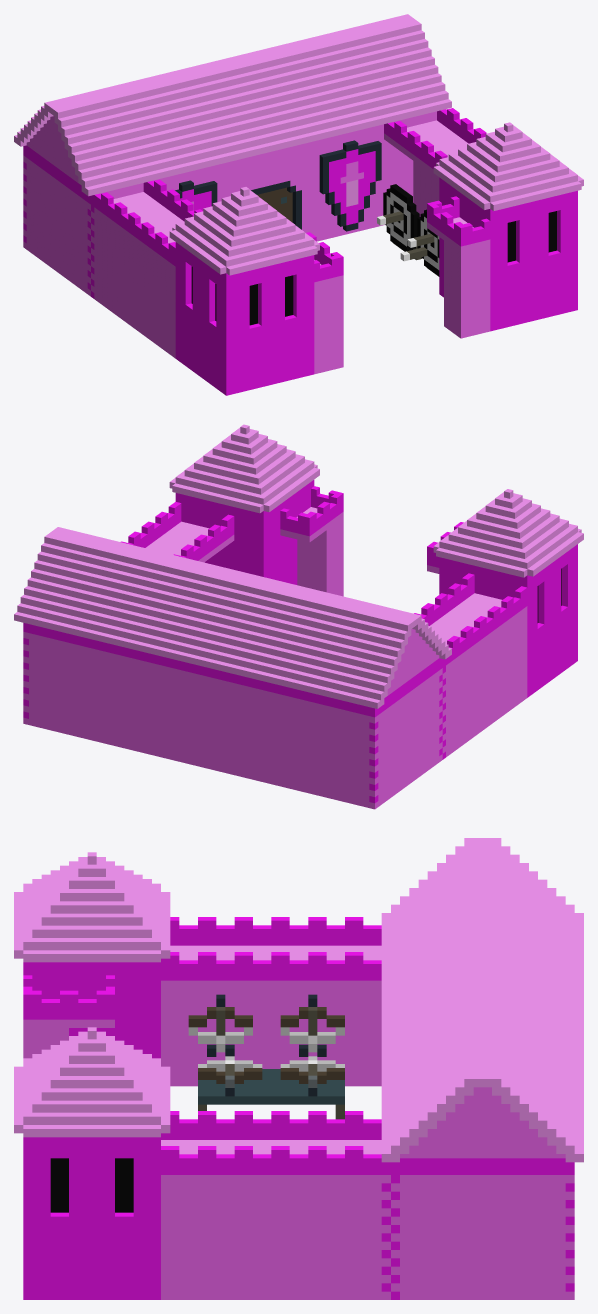
Rendered from barracks.obj.
3 views of the same model, one above another, from view 1: azimuth 30°, elevation 25°; view 2: azimuth 150°, elevation 25°; view 3: azimuth 270°, elevation 25° (orthographic). The views are drawn at different scales.
Bounding box in the file's own units: 6.2 × 2.9 × 6.2.
Materials: 1 (1 with a texture image).
